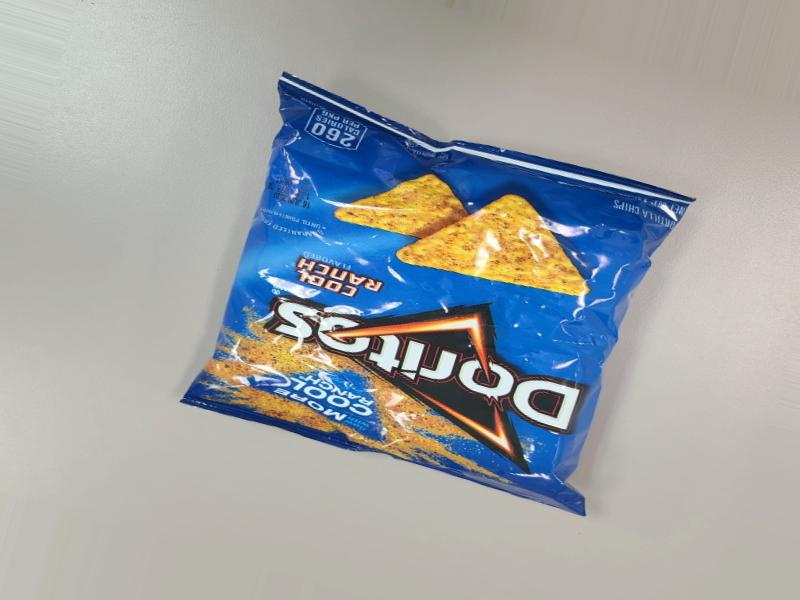doritos: (257, 98, 724, 530)
